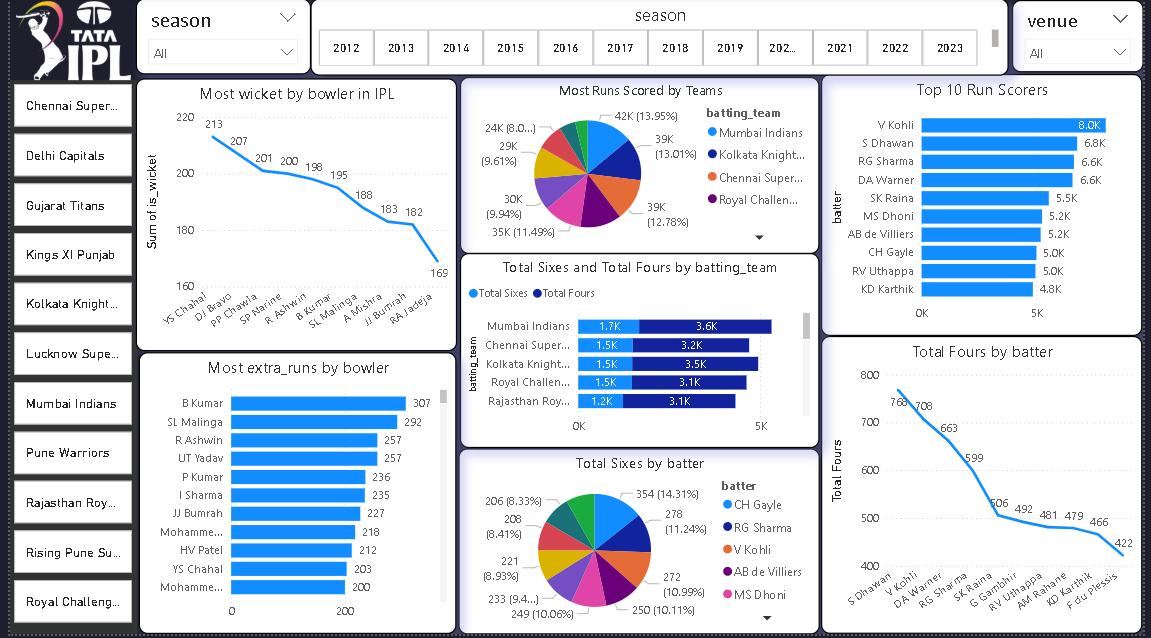

The page's visual inventory and layout, read from the dashboard file:
{"tool":"powerbi","page":{"name":" Batting Analysis","canvas":[1280,720],"ordinal":1},"visuals":[{"type":"slicer","fields":{"Values":["matches.season"]},"box":[142.7,2,197.8,85.6],"z":0},{"type":"advancedSlicerVisual","fields":{"Values":["matches.team2"]},"box":[0,93.2,143.7,627.2],"z":1000},{"type":"slicer","fields":{"Values":["matches.venue"]},"box":[1131.2,4.1,148.8,81.5],"z":2000},{"type":"clusteredBarChart","title":"Top 10 Run Scorers","fields":{"Category":["deliveries.batter"],"Y":["deliveries.batsman_runs"]},"box":[915.5,87.7,363,295.7],"z":3000},{"type":"pieChart","title":"Most Runs Scored by Teams","fields":{"Category":["deliveries.batting_team"],"Y":["deliveries.total_runs"]},"box":[507.7,89.7,405.8,199.8],"z":4000},{"type":"advancedSlicerVisual","fields":{"Values":["matches.season"]},"box":[339.8,1.9,788.4,87.4],"z":5000},{"type":"image","box":[0,0,143.7,99],"z":6000},{"type":"pieChart","fields":{"Category":["deliveries.batter"],"Y":["deliveries.Total Sixes"]},"box":[505.7,509.8,407.8,210],"z":7000},{"type":"lineChart","fields":{"Category":["deliveries.batter"],"Y":["deliveries.Total Fours"]},"box":[915.5,383.3,363,336.4],"z":8000},{"type":"lineChart","title":"Most wicket by bowler in IPL","fields":{"Category":["deliveries.bowler"],"Y":["deliveries.is_wicket"]},"box":[142.7,91.8,363,307.9],"z":9000},{"type":"barChart","fields":{"Category":["deliveries.batting_team"],"Y":["deliveries.Total Sixes","deliveries.Total Fours"]},"box":[507.7,289.5,405.8,220.2],"z":10000},{"type":"clusteredBarChart","title":"Most extra_runs by bowler","fields":{"Category":["deliveries.bowler"],"Y":["deliveries.extra_runs"]},"box":[144.8,401.7,358.9,318.1],"z":11000}]}

Visuals, with their boxes in screenshot pixels (x1, y1, x2, y2), scaled from the page's 1280x720 canvas onto the 1151x638 screenshot:
slicer - matches.season: 128,2,306,78
advancedSlicerVisual - matches.team2: 0,83,129,637
slicer - matches.venue: 1017,4,1150,76
"Top 10 Run Scorers" clusteredBarChart: 823,78,1150,340
"Most Runs Scored by Teams" pieChart: 457,79,821,257
advancedSlicerVisual - matches.season: 306,2,1014,79
image: 0,0,129,88
pieChart - deliveries.batter x deliveries.Total Sixes: 455,452,821,637
lineChart - deliveries.batter x deliveries.Total Fours: 823,340,1150,637
"Most wicket by bowler in IPL" lineChart: 128,81,455,354
barChart - deliveries.batting_team x deliveries.Total Sixes: 457,257,821,452
"Most extra_runs by bowler" clusteredBarChart: 130,356,453,637
